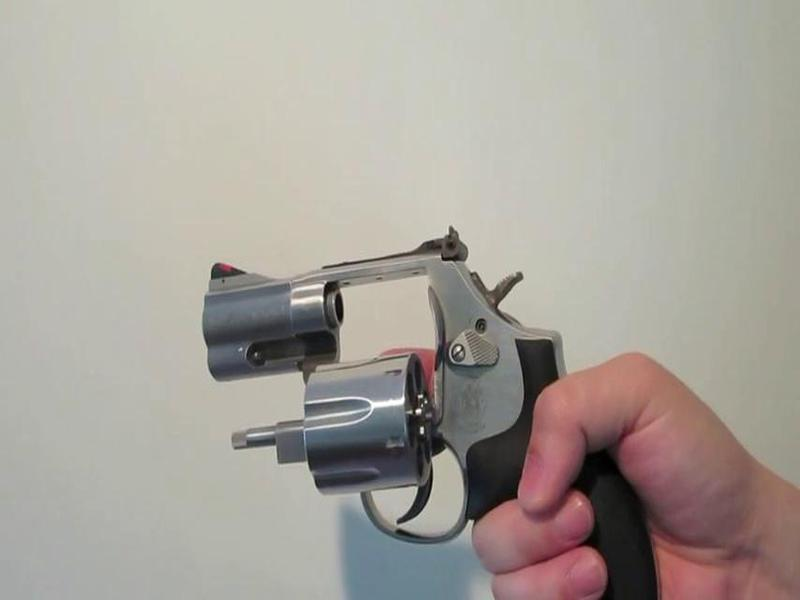Revolver: (197, 198, 635, 600)
